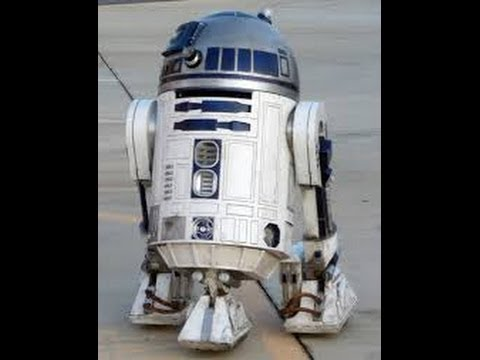r2d2: (125, 8, 359, 351)
